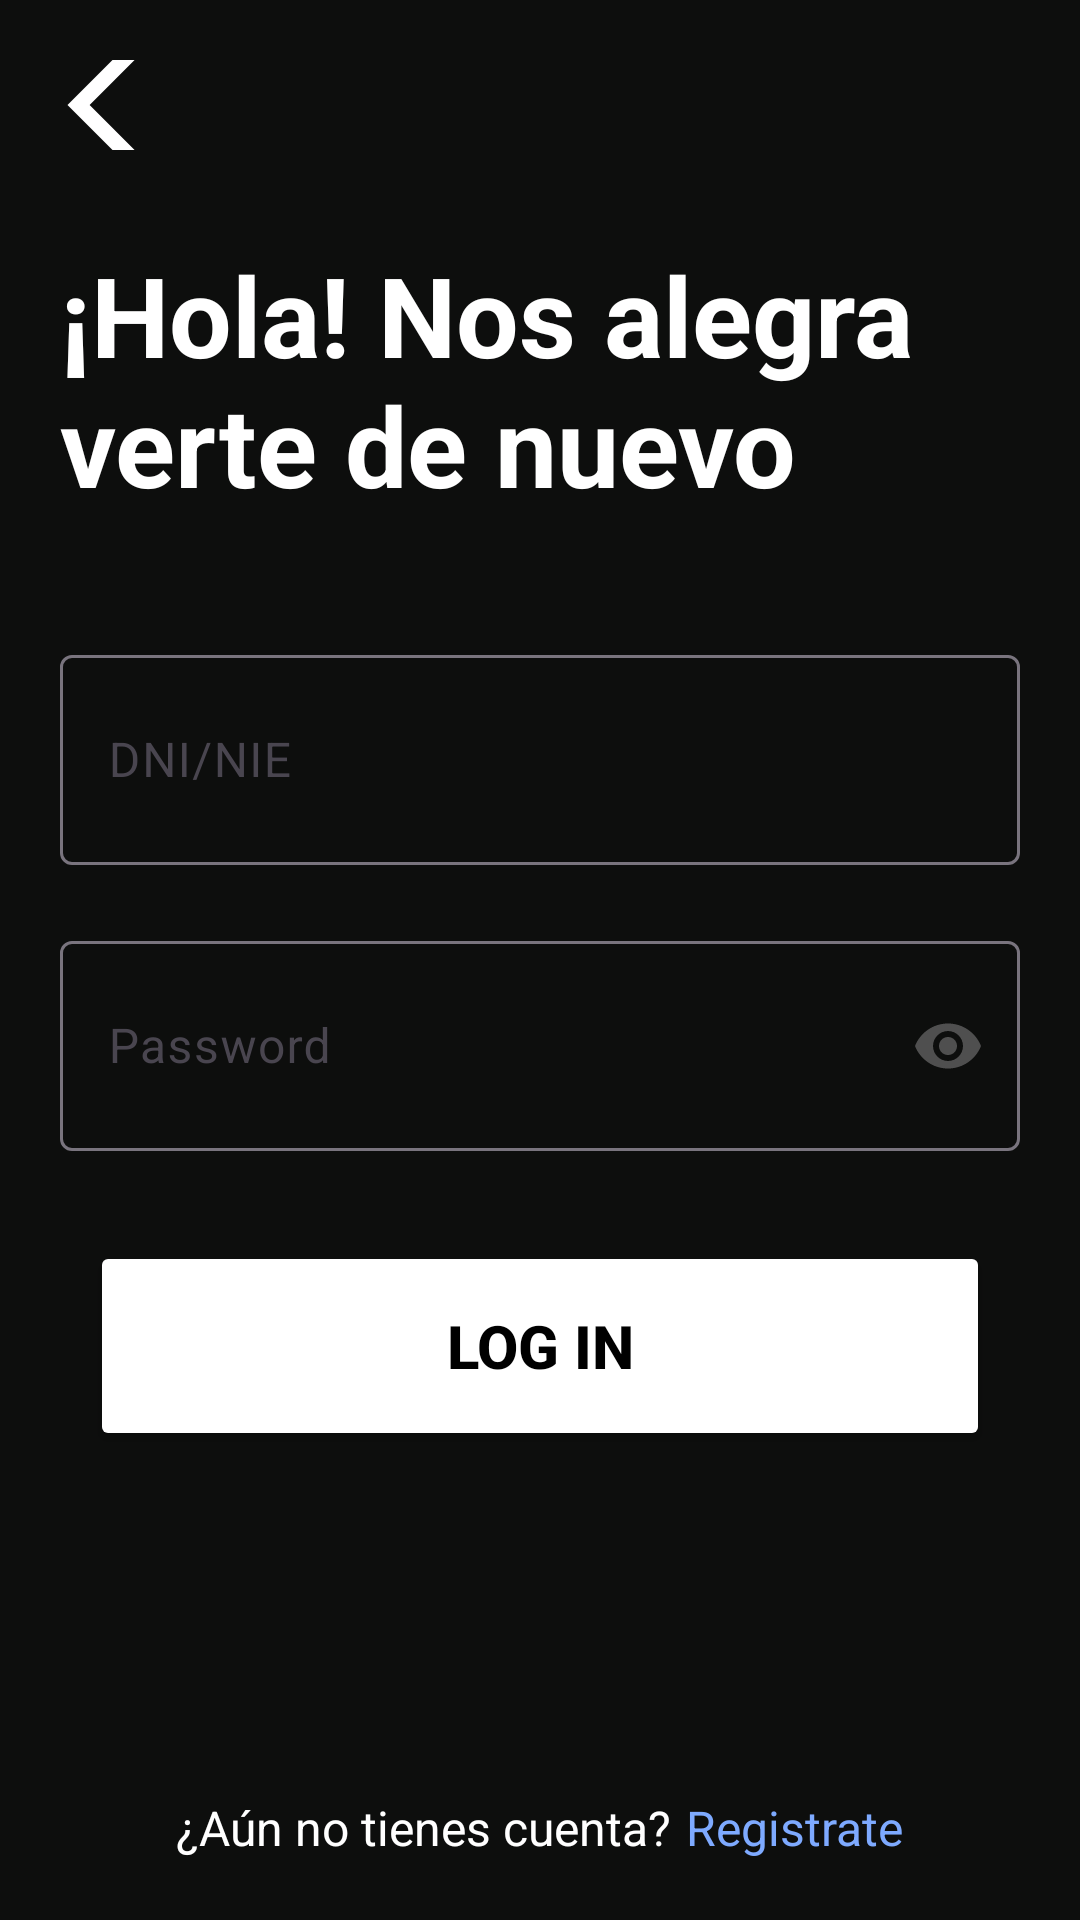

Screen size 1080px×1920px. Icon name, then its box in pixels as (left=x1, top=y1, right=x2, bottom=y2):
Go back: (left=67, top=60, right=135, bottom=150)
